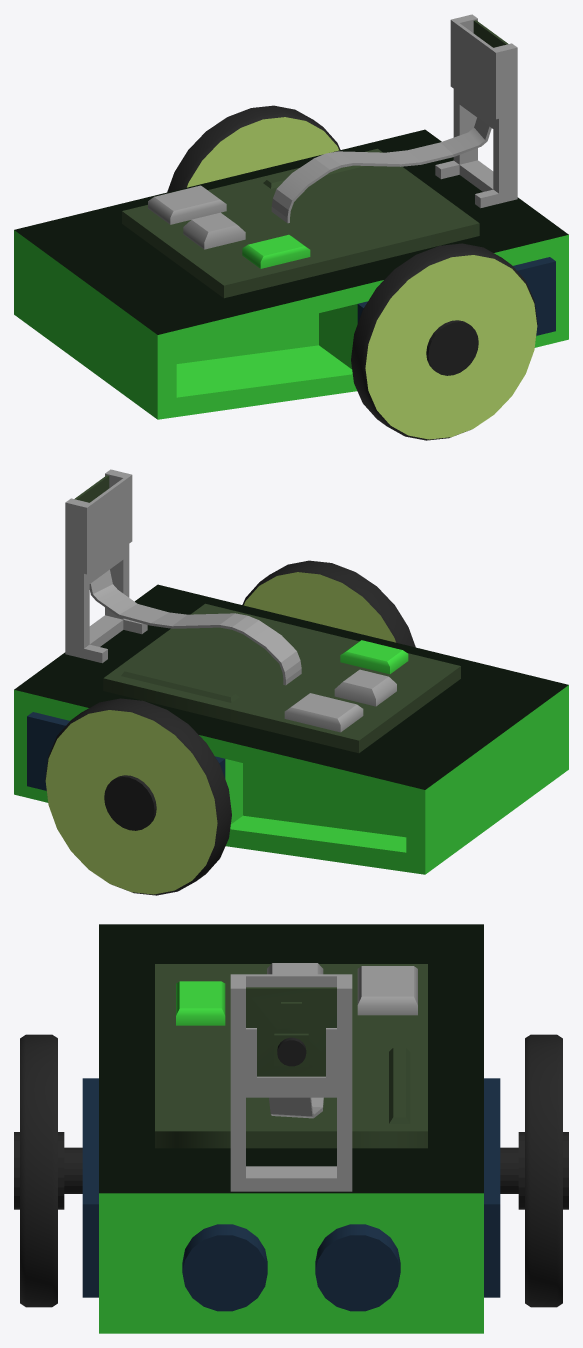
Rendered from jrobotFGLB.glb.
The picture shows the model from 3 angles, top to bottom: view 1: azimuth 30°, elevation 25°; view 2: azimuth 150°, elevation 25°; view 3: azimuth 270°, elevation 25°; orthographic projection. The views are drawn at different scales.
Visible parts, largest first — view 1: polySurface12; view 2: polySurface12; view 3: polySurface12.
Part boxes in pixels (box(x1,y1,x2,y2)): polySurface12: box(14, 14, 568, 440); polySurface12: box(14, 469, 568, 895); polySurface12: box(14, 924, 568, 1333).
Size of the model in its own units: 0.0426 by 0.0285 by 0.0357.
